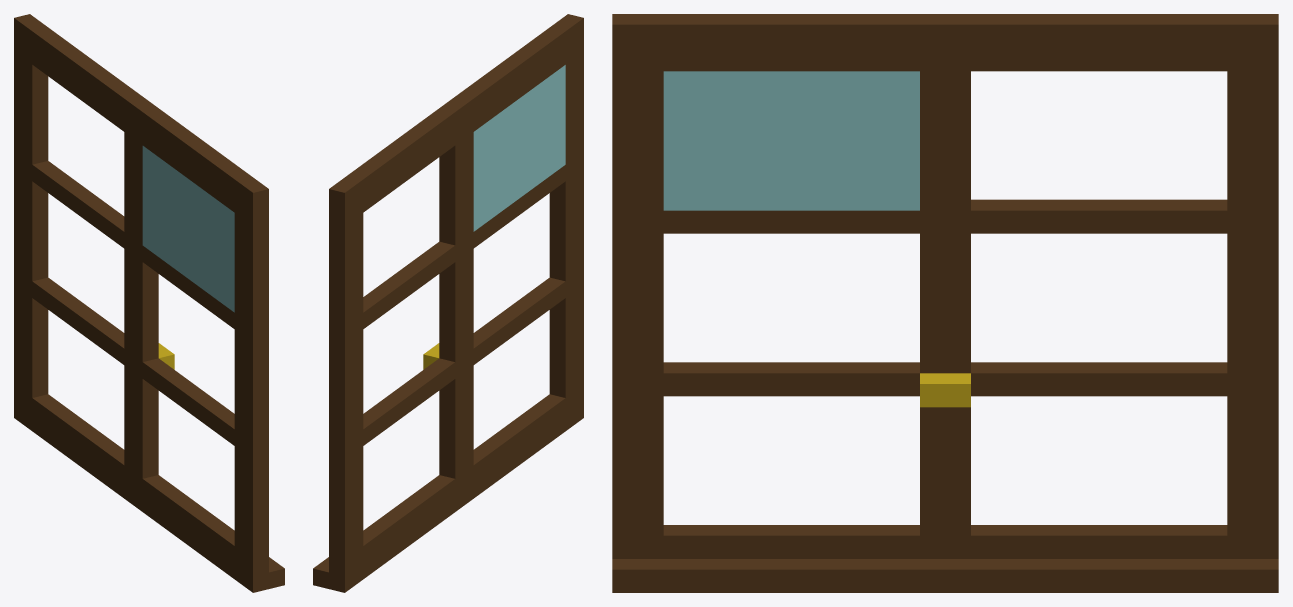
Rendered from Window00.gltf.
3 renders of one model, left to right at view 1: azimuth 30°, elevation 25°; view 2: azimuth 150°, elevation 25°; view 3: azimuth 270°, elevation 25°, orthographic. The views are drawn at different scales.
Parts seen in each view (by area): view 1: base, sideb, sidea, glass; view 2: base, sideb, sidea, glass; view 3: base, sideb, sidea, glass.
Part boxes in pixels (x1=…): base: x1=14, y1=14, x2=284, y2=592; sideb: x1=23, y1=41, x2=164, y2=488; sidea: x1=133, y1=122, x2=243, y2=569; glass: x1=142, y1=146, x2=234, y2=312; base: x1=313, y1=14, x2=583, y2=592; sideb: x1=354, y1=122, x2=464, y2=569; sidea: x1=433, y1=41, x2=574, y2=488; glass: x1=473, y1=65, x2=565, y2=231; base: x1=612, y1=14, x2=1278, y2=592; sideb: x1=945, y1=48, x2=1252, y2=558; sidea: x1=638, y1=48, x2=945, y2=558; glass: x1=663, y1=71, x2=919, y2=210.
Size of the model in its own units: 2 by 24 by 26.
